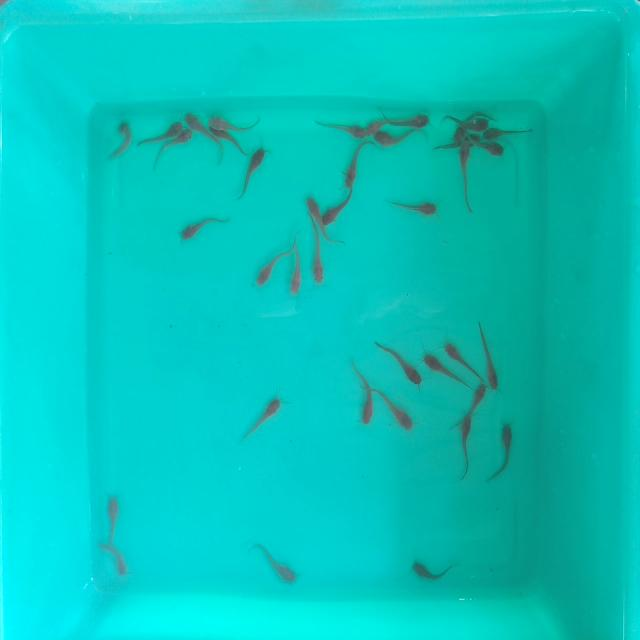lele: (372, 339, 427, 391), (419, 346, 475, 393), (238, 391, 284, 445), (251, 539, 299, 590), (372, 384, 417, 433), (236, 145, 271, 203), (446, 344, 490, 387), (348, 359, 375, 423), (323, 180, 361, 225), (481, 316, 503, 391), (250, 247, 288, 290), (453, 387, 487, 435), (176, 213, 223, 245), (312, 116, 369, 142), (96, 538, 134, 576), (491, 421, 513, 484), (160, 133, 194, 173), (384, 194, 441, 216), (346, 134, 372, 182), (458, 148, 475, 218), (407, 560, 456, 584), (463, 131, 505, 158), (135, 116, 182, 140), (458, 414, 474, 484), (109, 118, 134, 160), (102, 496, 122, 546), (392, 108, 434, 131), (218, 131, 252, 159), (210, 116, 262, 134), (288, 234, 302, 298), (310, 238, 326, 288), (305, 188, 323, 232), (376, 130, 413, 150), (363, 109, 390, 133), (490, 125, 534, 139), (185, 109, 209, 134), (430, 139, 458, 154), (469, 113, 498, 124), (442, 114, 471, 124)
